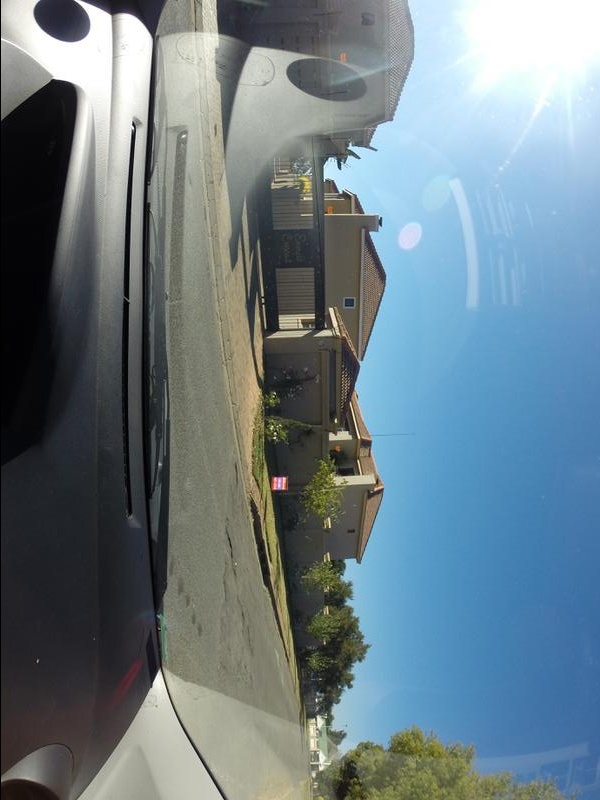pothole: (221, 524, 241, 588), (224, 600, 247, 641), (232, 459, 239, 497)
